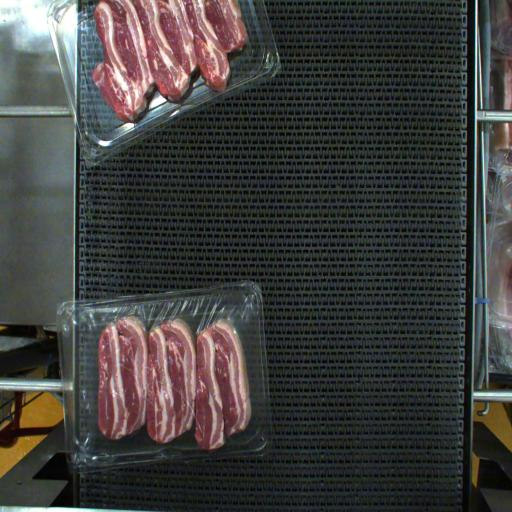unsealed: (82, 295, 254, 382)
